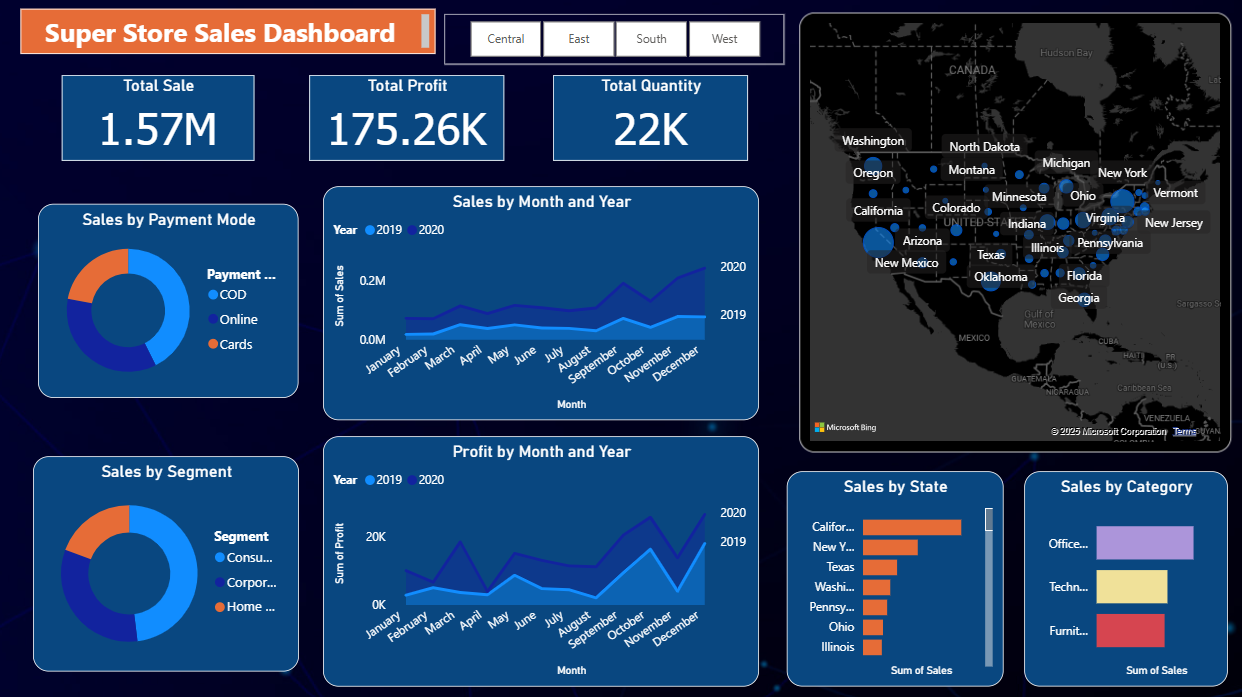

Layout of this report page (visuals, bound fields, positions):
{"tool":"powerbi","page":{"name":"Page 1","canvas":[1280,720],"ordinal":0},"visuals":[{"type":"map","fields":{"Category":["Sheet1.State"],"Size":["Sum(Sheet1.Sales)"]},"box":[822,12.3,443.2,451.5],"z":0},{"type":"donutChart","title":"Sales by Segment","fields":{"Category":["Sheet1.Segment"],"Y":["Sum(Sheet1.Sales)"]},"box":[35.7,467.9,273.1,220.9],"z":1000},{"type":"donutChart","title":"Sales by Payment Mode","fields":{"Y":["Sum(Sheet1.Sales)"],"Category":["Sheet1.Payment Mode"]},"box":[41.2,208.6,267.6,199],"z":2000},{"type":"slicer","fields":{"Values":["Sheet1.Region"]},"box":[458.3,13.7,348.5,52.1],"z":3000},{"type":"textbox","box":[23.3,9.6,425.4,46.7],"z":4000},{"type":"card","title":"Total Sale","fields":{"Values":["Sum(Sheet1.Sales)"]},"box":[65.9,76.8,197.6,87.8],"z":5000},{"type":"card","title":"Total Profit","fields":{"Values":["Sum(Sheet1.Profit)"]},"box":[319.7,76.8,200.3,87.8],"z":6000},{"type":"card","title":"Total Quantity","fields":{"Values":["Sum(Sheet1.Quantity)"]},"box":[569.5,76.8,200.3,87.8],"z":7000},{"type":"stackedAreaChart","title":"Sales by Month and Year","fields":{"Category":["Sheet1.Order Date.Variation.Date Hierarchy.Month","Sheet1.Order Date.Variation.Date Hierarchy.Day"],"Y":["Sum(Sheet1.Sales)"],"Series":["Sheet1.Order Date.Variation.Date Hierarchy.Year"]},"box":[333.4,190.7,447.3,240.1],"z":8000},{"type":"stackedAreaChart","title":"Profit by Month and Year","fields":{"Category":["Sheet1.Order Date.Variation.Date Hierarchy.Month","Sheet1.Order Date.Variation.Date Hierarchy.Day"],"Series":["Sheet1.Order Date.Variation.Date Hierarchy.Year"],"Y":["Sum(Sheet1.Profit)"]},"box":[333.4,447.3,447.3,256.6],"z":9000},{"type":"clusteredBarChart","title":"Sales by Category","fields":{"Category":["Sheet1.Category"],"Y":["Sum(Sheet1.Sales)"]},"box":[1052.5,483,208.6,220.9],"z":10000},{"type":"clusteredBarChart","title":"Sales by State","fields":{"Y":["Sum(Sheet1.Sales)"],"Category":["Sheet1.State"]},"box":[809.6,483,222.3,220.9],"z":11000}]}

Visuals, with their boxes in screenshot pixels (x1, y1, x2, y2), scaled from the page's 1280x720 canvas onto the 1242x697 screenshot:
map - Sheet1.State x Sum(Sheet1.Sales): [798, 12, 1228, 449]
"Sales by Segment" donutChart: [35, 453, 300, 667]
"Sales by Payment Mode" donutChart: [40, 202, 300, 395]
slicer - Sheet1.Region: [445, 13, 783, 64]
textbox: [23, 9, 435, 55]
"Total Sale" card: [64, 74, 256, 159]
"Total Profit" card: [310, 74, 505, 159]
"Total Quantity" card: [553, 74, 747, 159]
"Sales by Month and Year" stackedAreaChart: [324, 185, 758, 417]
"Profit by Month and Year" stackedAreaChart: [324, 433, 758, 681]
"Sales by Category" clusteredBarChart: [1021, 468, 1224, 681]
"Sales by State" clusteredBarChart: [786, 468, 1001, 681]
